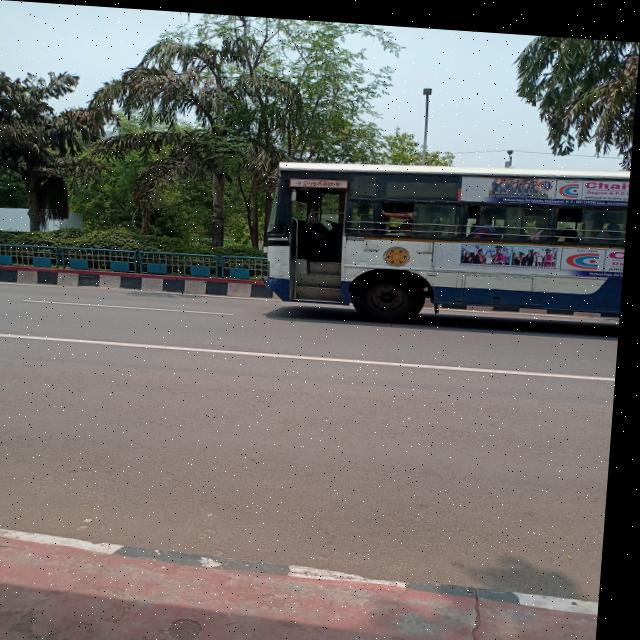bus: (249, 139, 633, 324)
